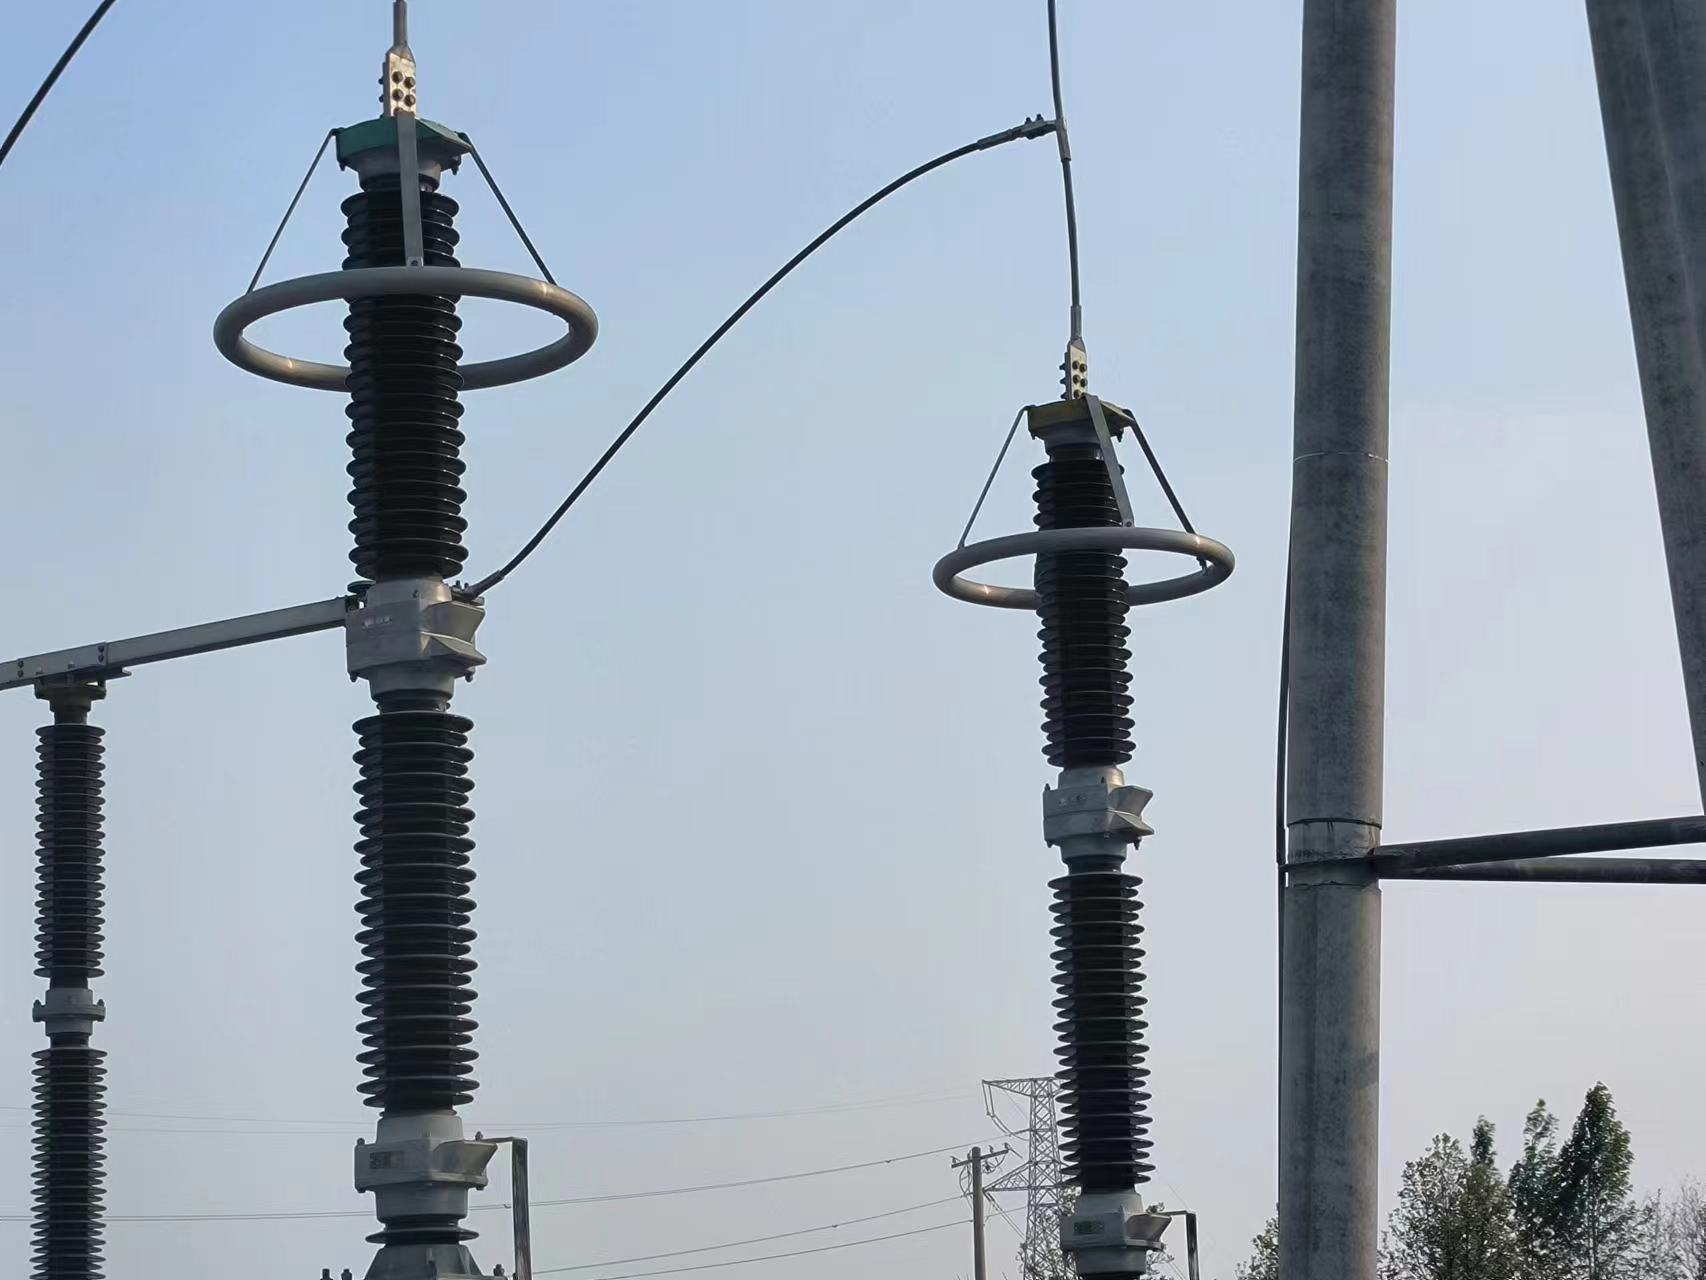Arrester: (211, 113, 601, 1238), (932, 395, 1240, 1275)
